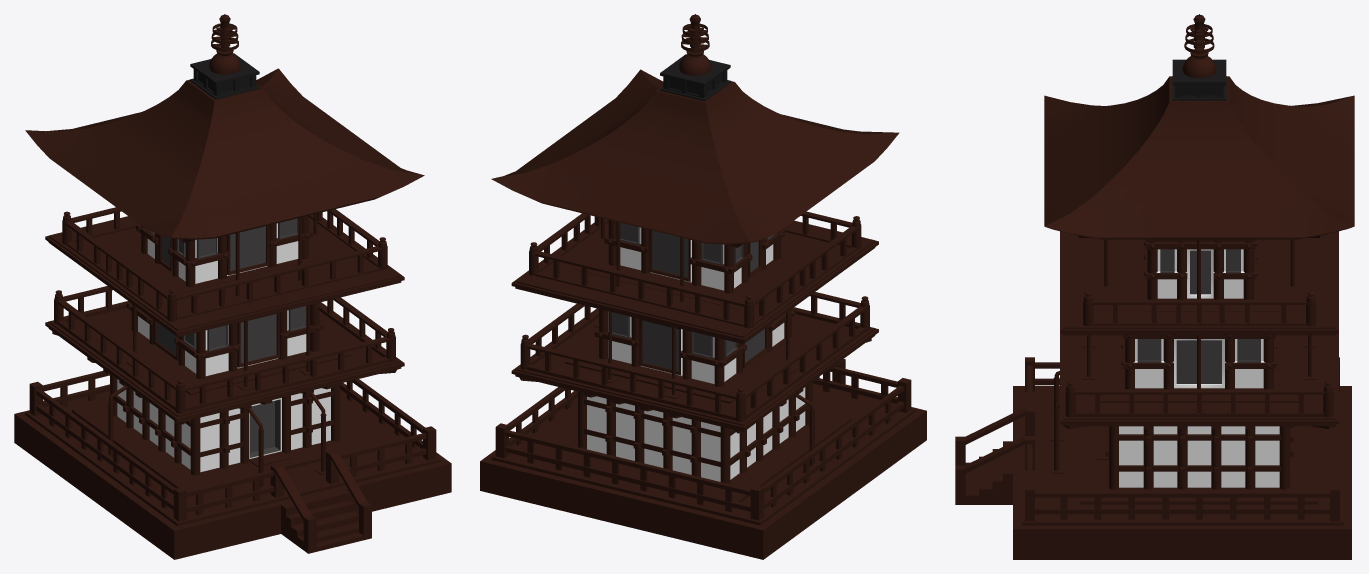
Rendered from Japon_Tapinak 4.fbx.
3 renders of one model, left to right at view 1: azimuth 30°, elevation 25°; view 2: azimuth 150°, elevation 25°; view 3: azimuth 270°, elevation 25°, orthographic. The views are drawn at different scales.
Visible parts, largest first — view 1: Japanese_Shrine004; view 2: Japanese_Shrine004; view 3: Japanese_Shrine004.
Boxes of the visible parts, x1,y1,x2,y2 form: Japanese_Shrine004: (14, 14, 451, 559); Japanese_Shrine004: (480, 14, 926, 559); Japanese_Shrine004: (955, 14, 1354, 559).
Bounding box in the file's own units: 787 × 1216 × 927.
